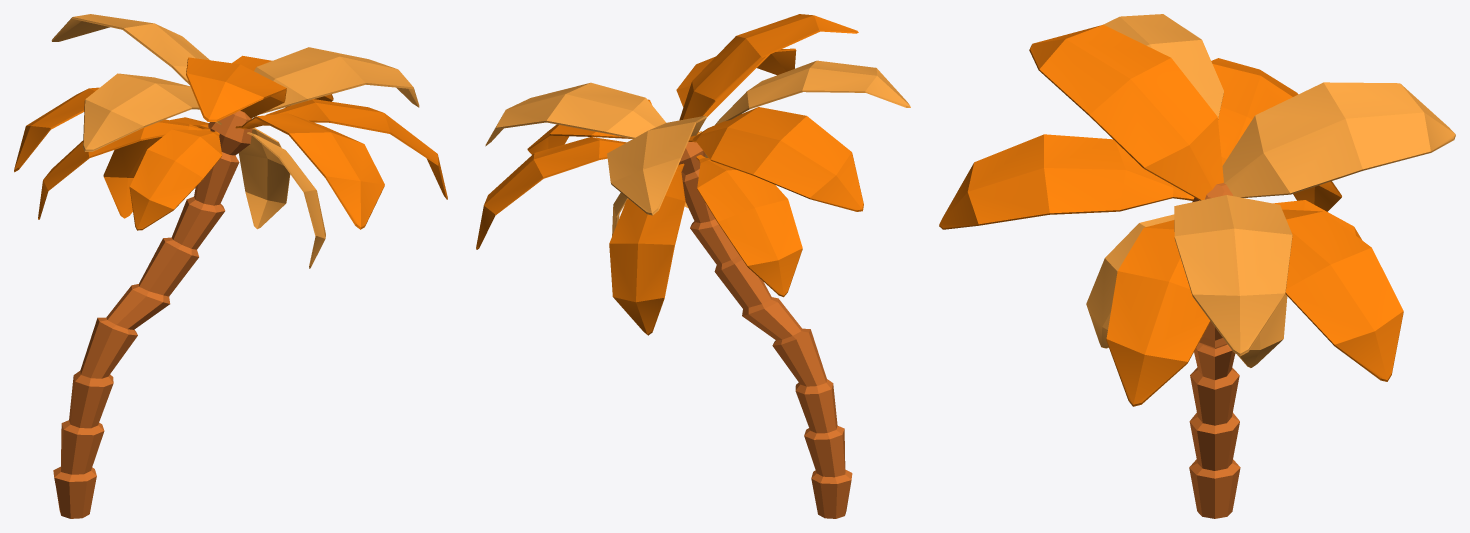
File: Tree_10_Fall.fbx
3 renders of one model, left to right at view 1: azimuth 30°, elevation 25°; view 2: azimuth 150°, elevation 25°; view 3: azimuth 270°, elevation 25°, orthographic. The views are drawn at different scales.
Parts seen in each view (by area): view 1: Tree_10_p2_Fall, Tree_10_p1_Fall; view 2: Tree_10_p2_Fall, Tree_10_p1_Fall; view 3: Tree_10_p2_Fall, Tree_10_p1_Fall.
Boxes of the visible parts, x1,y1,x2,y2 form: Tree_10_p2_Fall: (14,14,447,268); Tree_10_p1_Fall: (53,110,252,518); Tree_10_p2_Fall: (476,14,910,335); Tree_10_p1_Fall: (678,142,852,518); Tree_10_p2_Fall: (939,14,1455,406); Tree_10_p1_Fall: (1189,183,1240,518).
Size of the model in its own units: 357 by 391 by 351.
